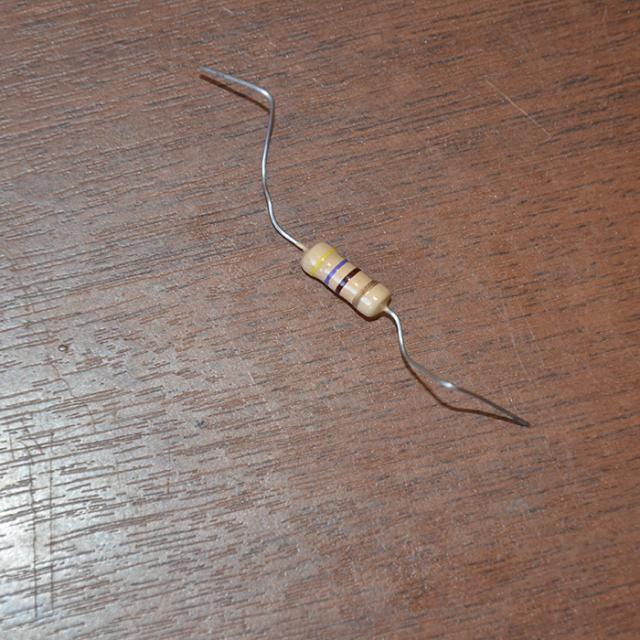brown: (334, 268, 358, 290)
gold: (353, 280, 376, 304)
resistor: (282, 221, 411, 335)
violet: (324, 260, 347, 283)
yellow: (309, 247, 335, 275)
